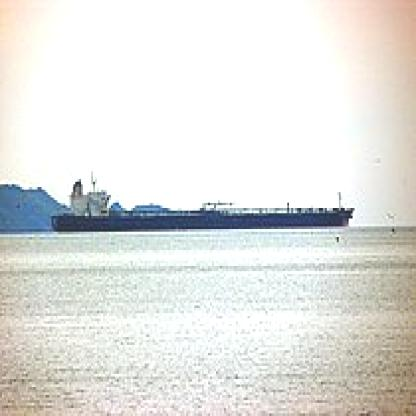Tanker: (43, 202, 358, 228)
